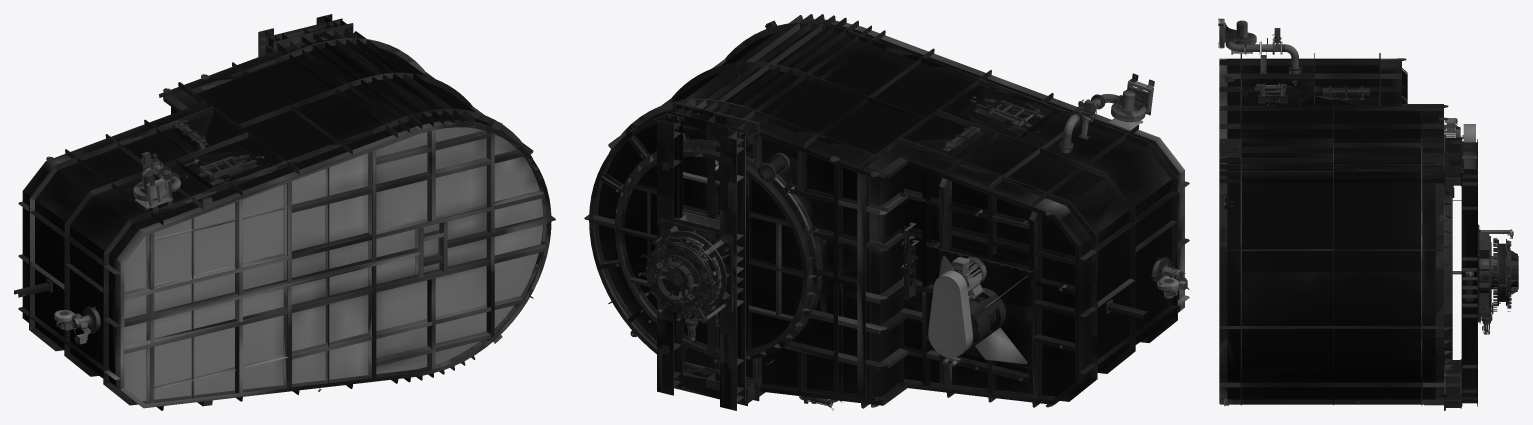
The model's file is ROTARY_HT.glb.
3 views of the same model, side by side, from view 1: azimuth 30°, elevation 25°; view 2: azimuth 150°, elevation 25°; view 3: azimuth 270°, elevation 25° (orthographic). The views are drawn at different scales.
Visible parts, largest first — view 1: node_id3; view 2: node_id3; view 3: node_id3.
Part boxes in pixels (bbox=[...]): node_id3: bbox=[14, 14, 555, 410]; node_id3: bbox=[584, 14, 1189, 410]; node_id3: bbox=[1218, 18, 1518, 410].
Bounding box in the file's own units: 0.512 × 0.2985 × 0.3038.
1 material, 1 textured.
